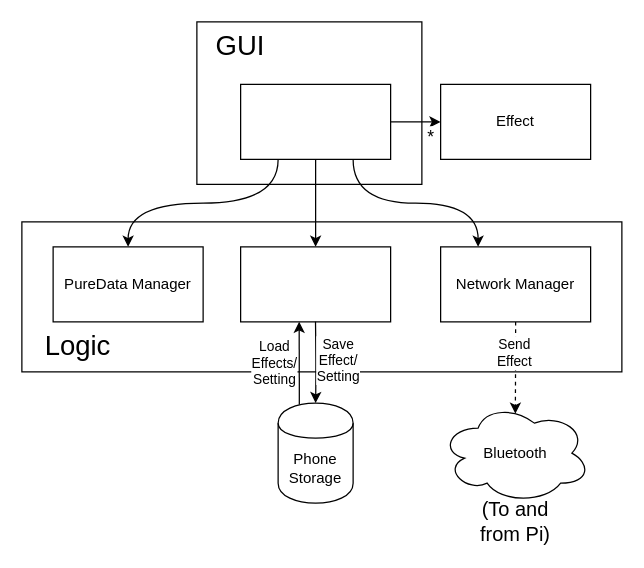
This 644x568 diagram has some shape labels left out. The shapes that lost their labels are listed below. From the top down, each one's centre as x and y in pixels, then its label:
(x=315, y=121): Home
(x=315, y=284): FileSystemManager
